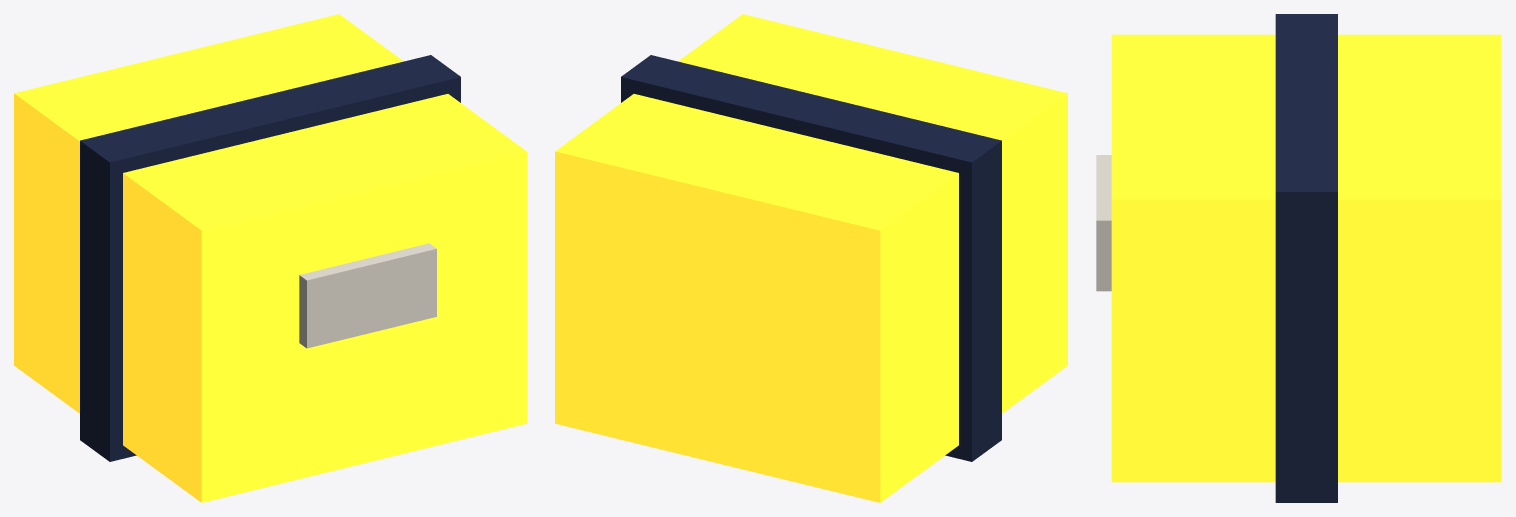
File: cargo_crate_small.fbx
The picture shows the model from 3 angles, left to right: view 1: azimuth 30°, elevation 25°; view 2: azimuth 150°, elevation 25°; view 3: azimuth 270°, elevation 25°; orthographic projection. The views are drawn at different scales.
Parts seen in each view (by area): view 1: cargo_crate_small; view 2: cargo_crate_small; view 3: cargo_crate_small.
Part boxes in pixels (<box>): cargo_crate_small: <box>14,14,526,502</box>; cargo_crate_small: <box>555,14,1067,502</box>; cargo_crate_small: <box>1096,14,1501,502</box>.
Bounding box in the file's own units: 0.54 × 0.44 × 0.52.
